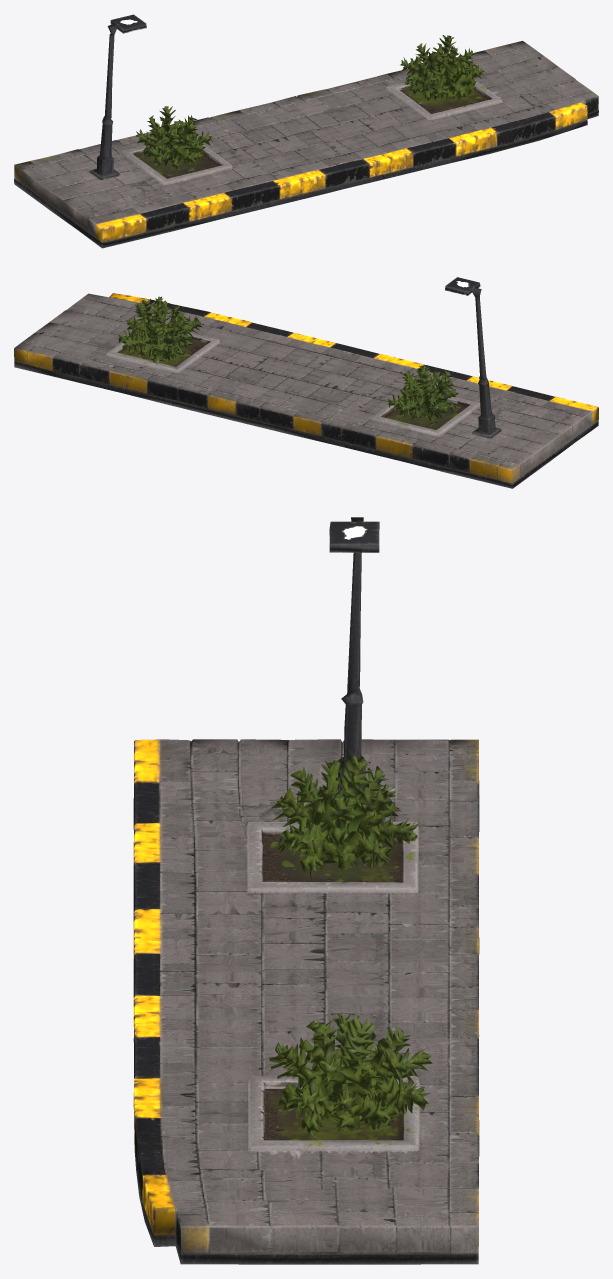
The model's file is kw_sidewalk.glb.
3 renders of one model, top to bottom at view 1: azimuth 30°, elevation 25°; view 2: azimuth 150°, elevation 25°; view 3: azimuth 270°, elevation 25°, orthographic. The views are drawn at different scales.
Visible parts, largest first — view 1: frame; view 2: frame; view 3: frame.
Boxes of the visible parts, x1,y1,x2,y2 form: frame: [14, 14, 598, 248]; frame: [14, 277, 598, 488]; frame: [133, 517, 479, 1264].
Size of the model in its own units: 19 by 5.9 by 5.7.
Materials: 1 (1 with a texture image).
